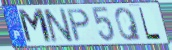5: (90, 5, 116, 44)
L: (138, 7, 163, 41)
M: (16, 8, 55, 46)
N: (41, 7, 75, 45)
P: (66, 8, 92, 44)
Q: (113, 6, 143, 42)
